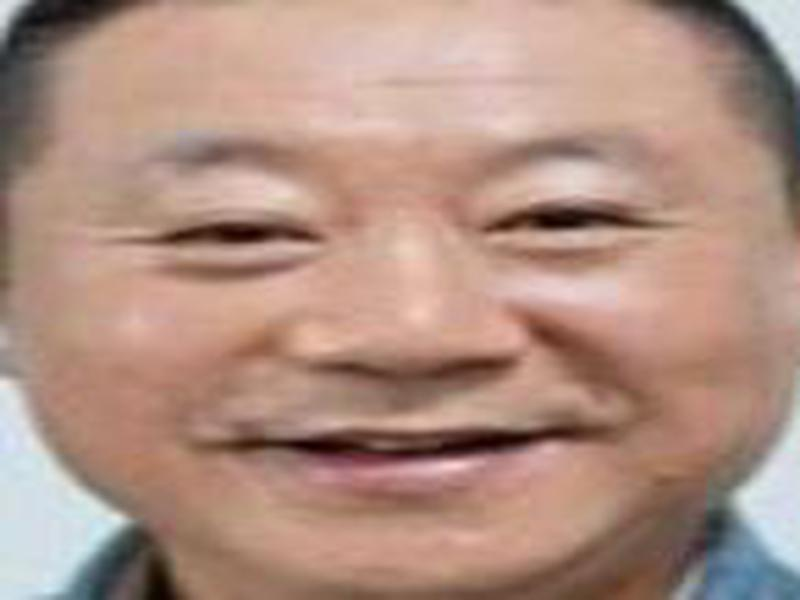without_mask: (10, 39, 783, 593)
